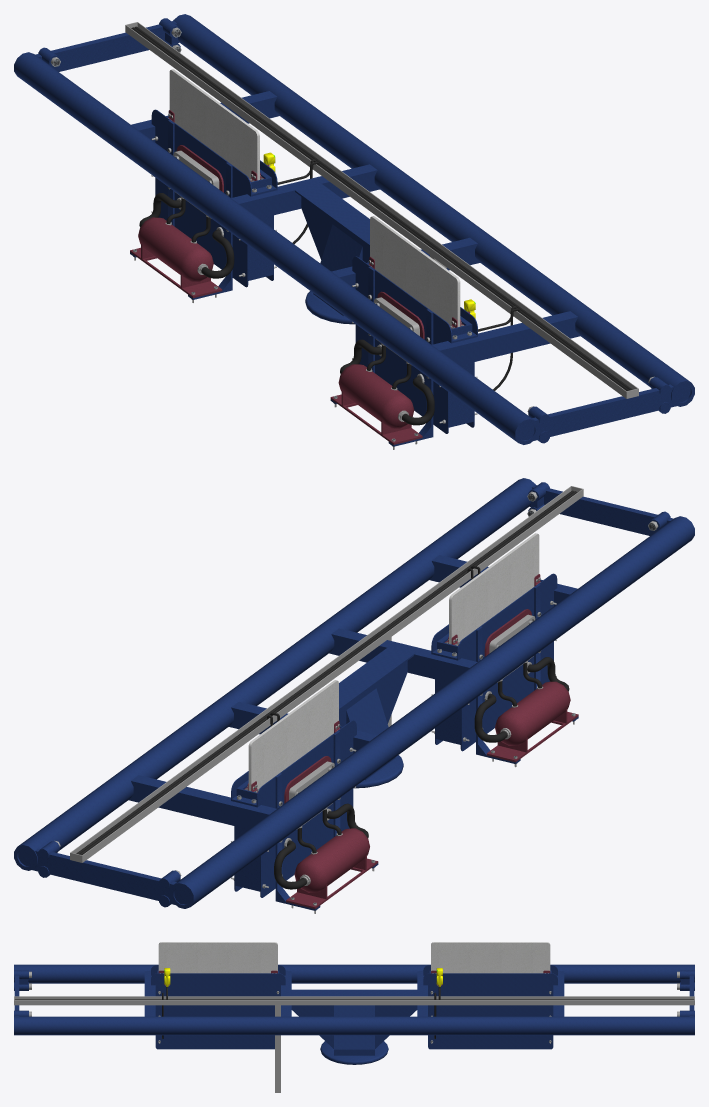
Rendered from Trim Section (Retractable).dae.
The picture shows the model from 3 angles, top to bottom: view 1: azimuth 30°, elevation 25°; view 2: azimuth 150°, elevation 25°; view 3: azimuth 270°, elevation 25°; orthographic projection. The views are drawn at different scales.
Parts seen in each view (by area): view 1: Track (×8), Mid_Detail (×4), High_Detail (×5), Fins (×2); view 2: Track (×8), Mid_Detail (×4), High_Detail (×5), Fins (×2); view 3: Track (×6), Mid_Detail (×4), Fins (×2), High_Detail.
Boxes of the visible parts, box(x1,y1,x2,y2) form: Track (×8): box(14, 14, 694, 444); Mid_Detail (×4): box(125, 22, 638, 433); High_Detail (×5): box(130, 26, 632, 444); Fins (×2): box(169, 69, 460, 326); Track (×8): box(14, 478, 694, 908); Mid_Detail (×4): box(70, 486, 583, 897); High_Detail (×5): box(76, 490, 578, 908); Fins (×2): box(248, 533, 539, 790); Track (×6): box(14, 964, 694, 1064); Mid_Detail (×4): box(14, 964, 694, 1092); Fins (×2): box(158, 942, 550, 973); High_Detail: box(14, 999, 694, 999).
Bounding box in the file's own units: 41.69 × 197 × 40.18.
12 materials, 6 textured.
